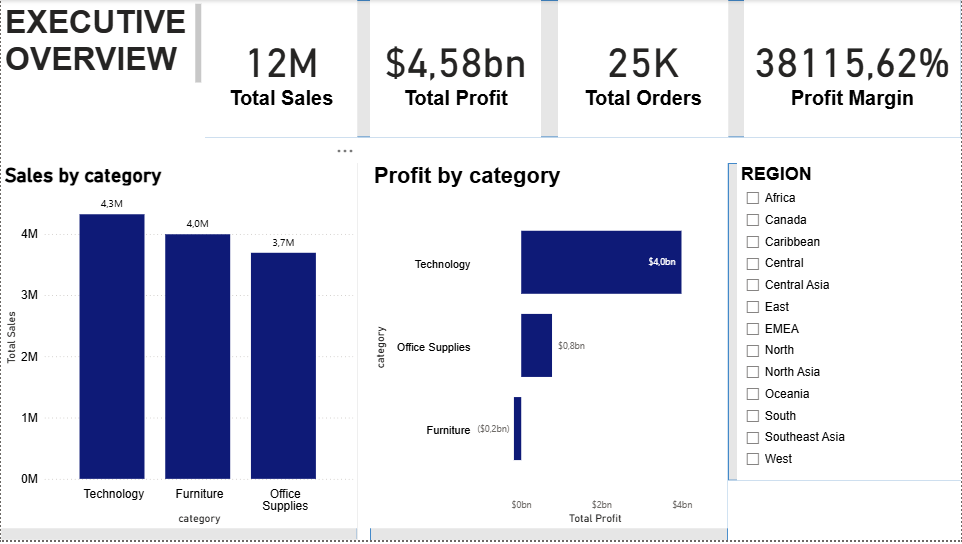

What the dashboard file says about the page in this screenshot:
{"tool":"powerbi","page":{"name":"EXECUTIVE OVERVIEW","canvas":[1280,720],"ordinal":0},"visuals":[{"type":"textbox","box":[0,0,272,120],"z":0},{"type":"shape","box":[272.1,0,1007.9,183.1],"z":1000},{"type":"card","title":"TOTAL SALES","fields":{"Values":["superstore_cleaned.Total Sales"]},"box":[272.1,0,203.3,183.1],"z":2000},{"type":"card","fields":{"Values":["superstore_cleaned.Total Profit"]},"box":[492.2,0,228.5,183.1],"z":3000},{"type":"card","fields":{"Values":["superstore_cleaned.Total Orders"]},"box":[742.5,0,226.8,183.1],"z":4000},{"type":"card","fields":{"Values":["superstore_cleaned.Profit Margin"]},"box":[991.1,0,288.9,183.1],"z":5000},{"type":"shape","box":[0,216.7,475.4,503.9],"z":6000},{"type":"shape","box":[492.2,216.7,477.1,503.9],"z":7000},{"type":"clusteredColumnChart","title":"Sales by category","fields":{"Category":["superstore_cleaned.category"],"Y":["superstore_cleaned.Total Sales"]},"box":[0,216.7,475.4,487.1],"z":8000},{"type":"barChart","title":"Profit by category","fields":{"Category":["superstore_cleaned.category"],"Y":["superstore_cleaned.Total Profit"]},"box":[492.2,216.7,477.1,487.1],"z":9000},{"type":"shape","box":[969.2,216.7,310.8,423.3],"z":10000},{"type":"slicer","title":"REGION","fields":{"Values":["superstore_cleaned.region"]},"box":[981,216.7,299,423.3],"z":11000}]}

Visuals, with their boxes in screenshot pixels (x1, y1, x2, y2), scaled from the page's 1280x720 canvas onto the 962x544 screenshot:
textbox: (x1=0, y1=0, x2=204, y2=91)
shape: (x1=205, y1=0, x2=961, y2=138)
"TOTAL SALES" card: (x1=205, y1=0, x2=357, y2=138)
card - superstore_cleaned.Total Profit: (x1=370, y1=0, x2=542, y2=138)
card - superstore_cleaned.Total Orders: (x1=558, y1=0, x2=728, y2=138)
card - superstore_cleaned.Profit Margin: (x1=745, y1=0, x2=961, y2=138)
shape: (x1=0, y1=164, x2=357, y2=543)
shape: (x1=370, y1=164, x2=728, y2=543)
"Sales by category" clusteredColumnChart: (x1=0, y1=164, x2=357, y2=532)
"Profit by category" barChart: (x1=370, y1=164, x2=728, y2=532)
shape: (x1=728, y1=164, x2=961, y2=484)
"REGION" slicer: (x1=737, y1=164, x2=961, y2=484)
